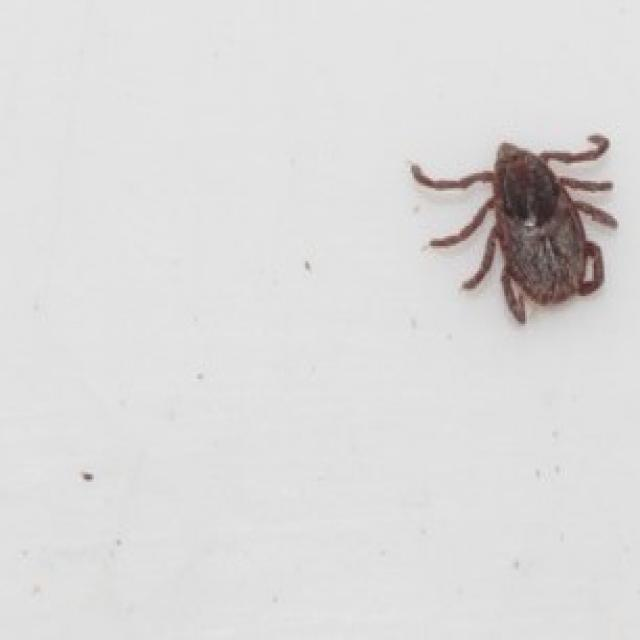Rhipicephalus Sanguineus-F: (410, 133, 619, 326)
